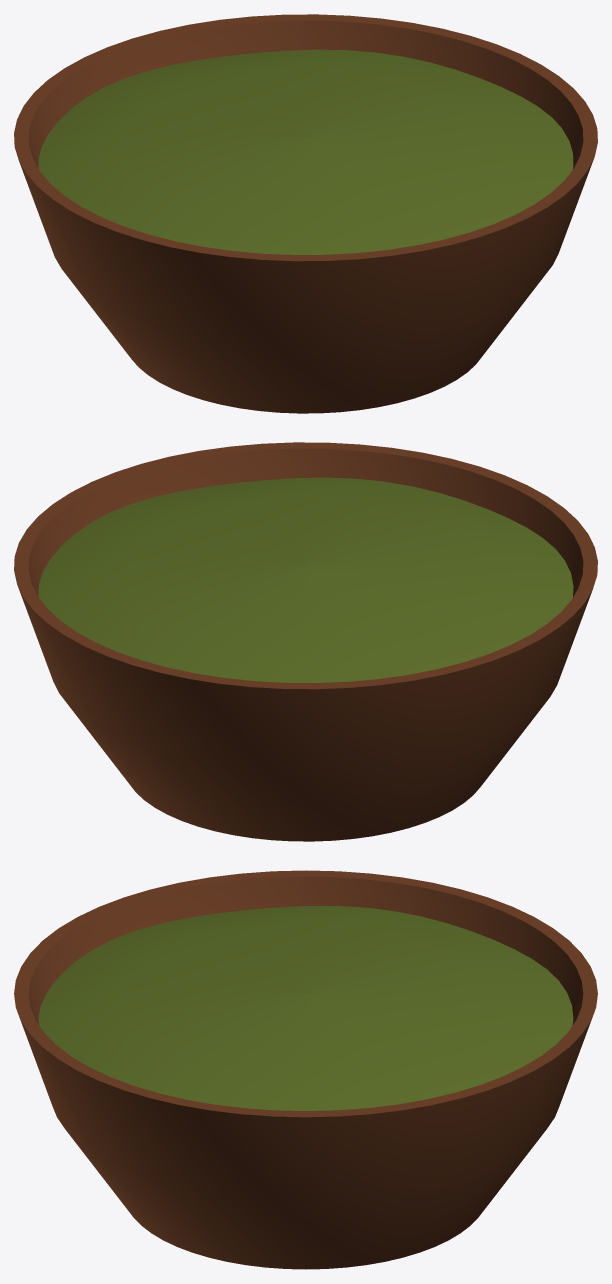
Rendered from cumbuca-azeitona.glb.
The picture shows the model from 3 angles, top to bottom: view 1: azimuth 30°, elevation 25°; view 2: azimuth 150°, elevation 25°; view 3: azimuth 270°, elevation 25°; orthographic projection.
Visible parts, largest first — view 1: cumbuca-azeitona; view 2: cumbuca-azeitona; view 3: cumbuca-azeitona.
Boxes of the visible parts, x1,y1,x2,y2 form: cumbuca-azeitona: [14, 14, 597, 413]; cumbuca-azeitona: [14, 442, 597, 841]; cumbuca-azeitona: [14, 870, 597, 1269].
Size of the model in its own units: 0.16 by 0.06 by 0.16.
